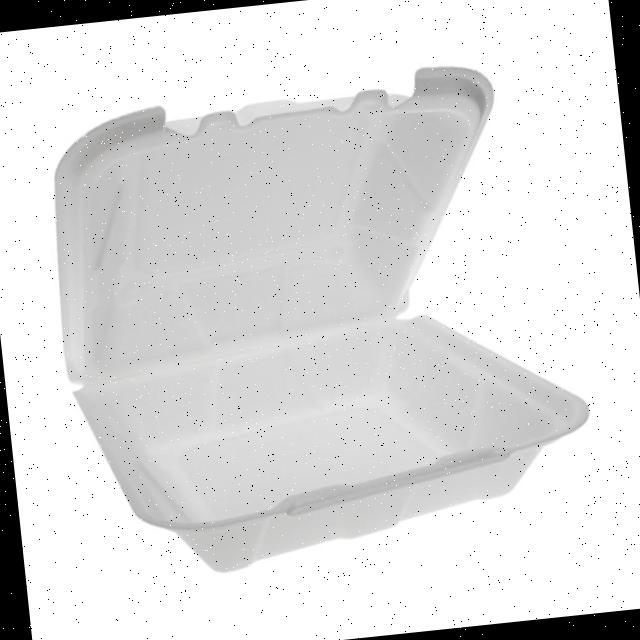styrofoam: (36, 51, 602, 587)
